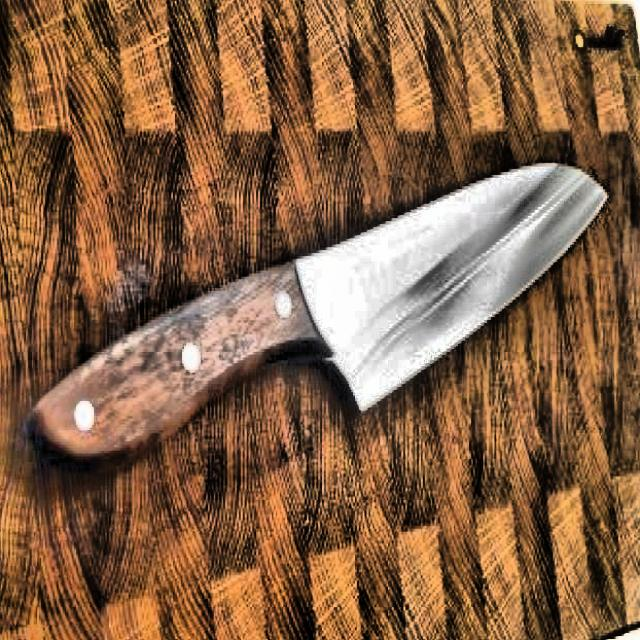knife: (25, 158, 611, 484)
